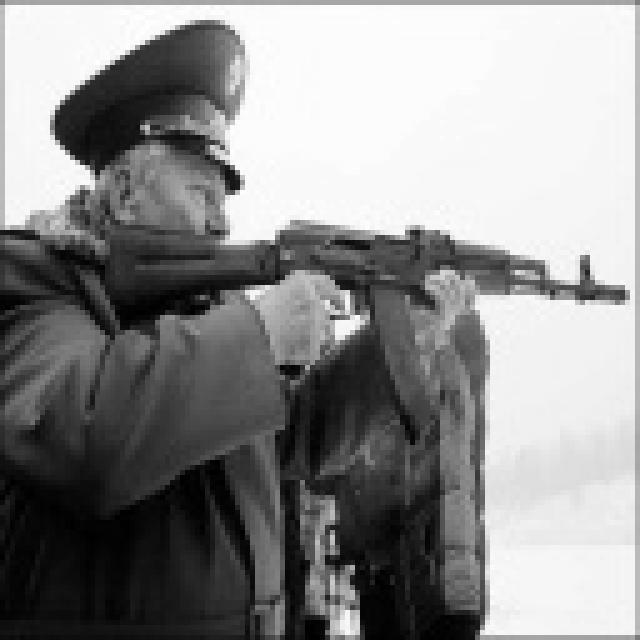Rifle: (100, 209, 640, 377)
